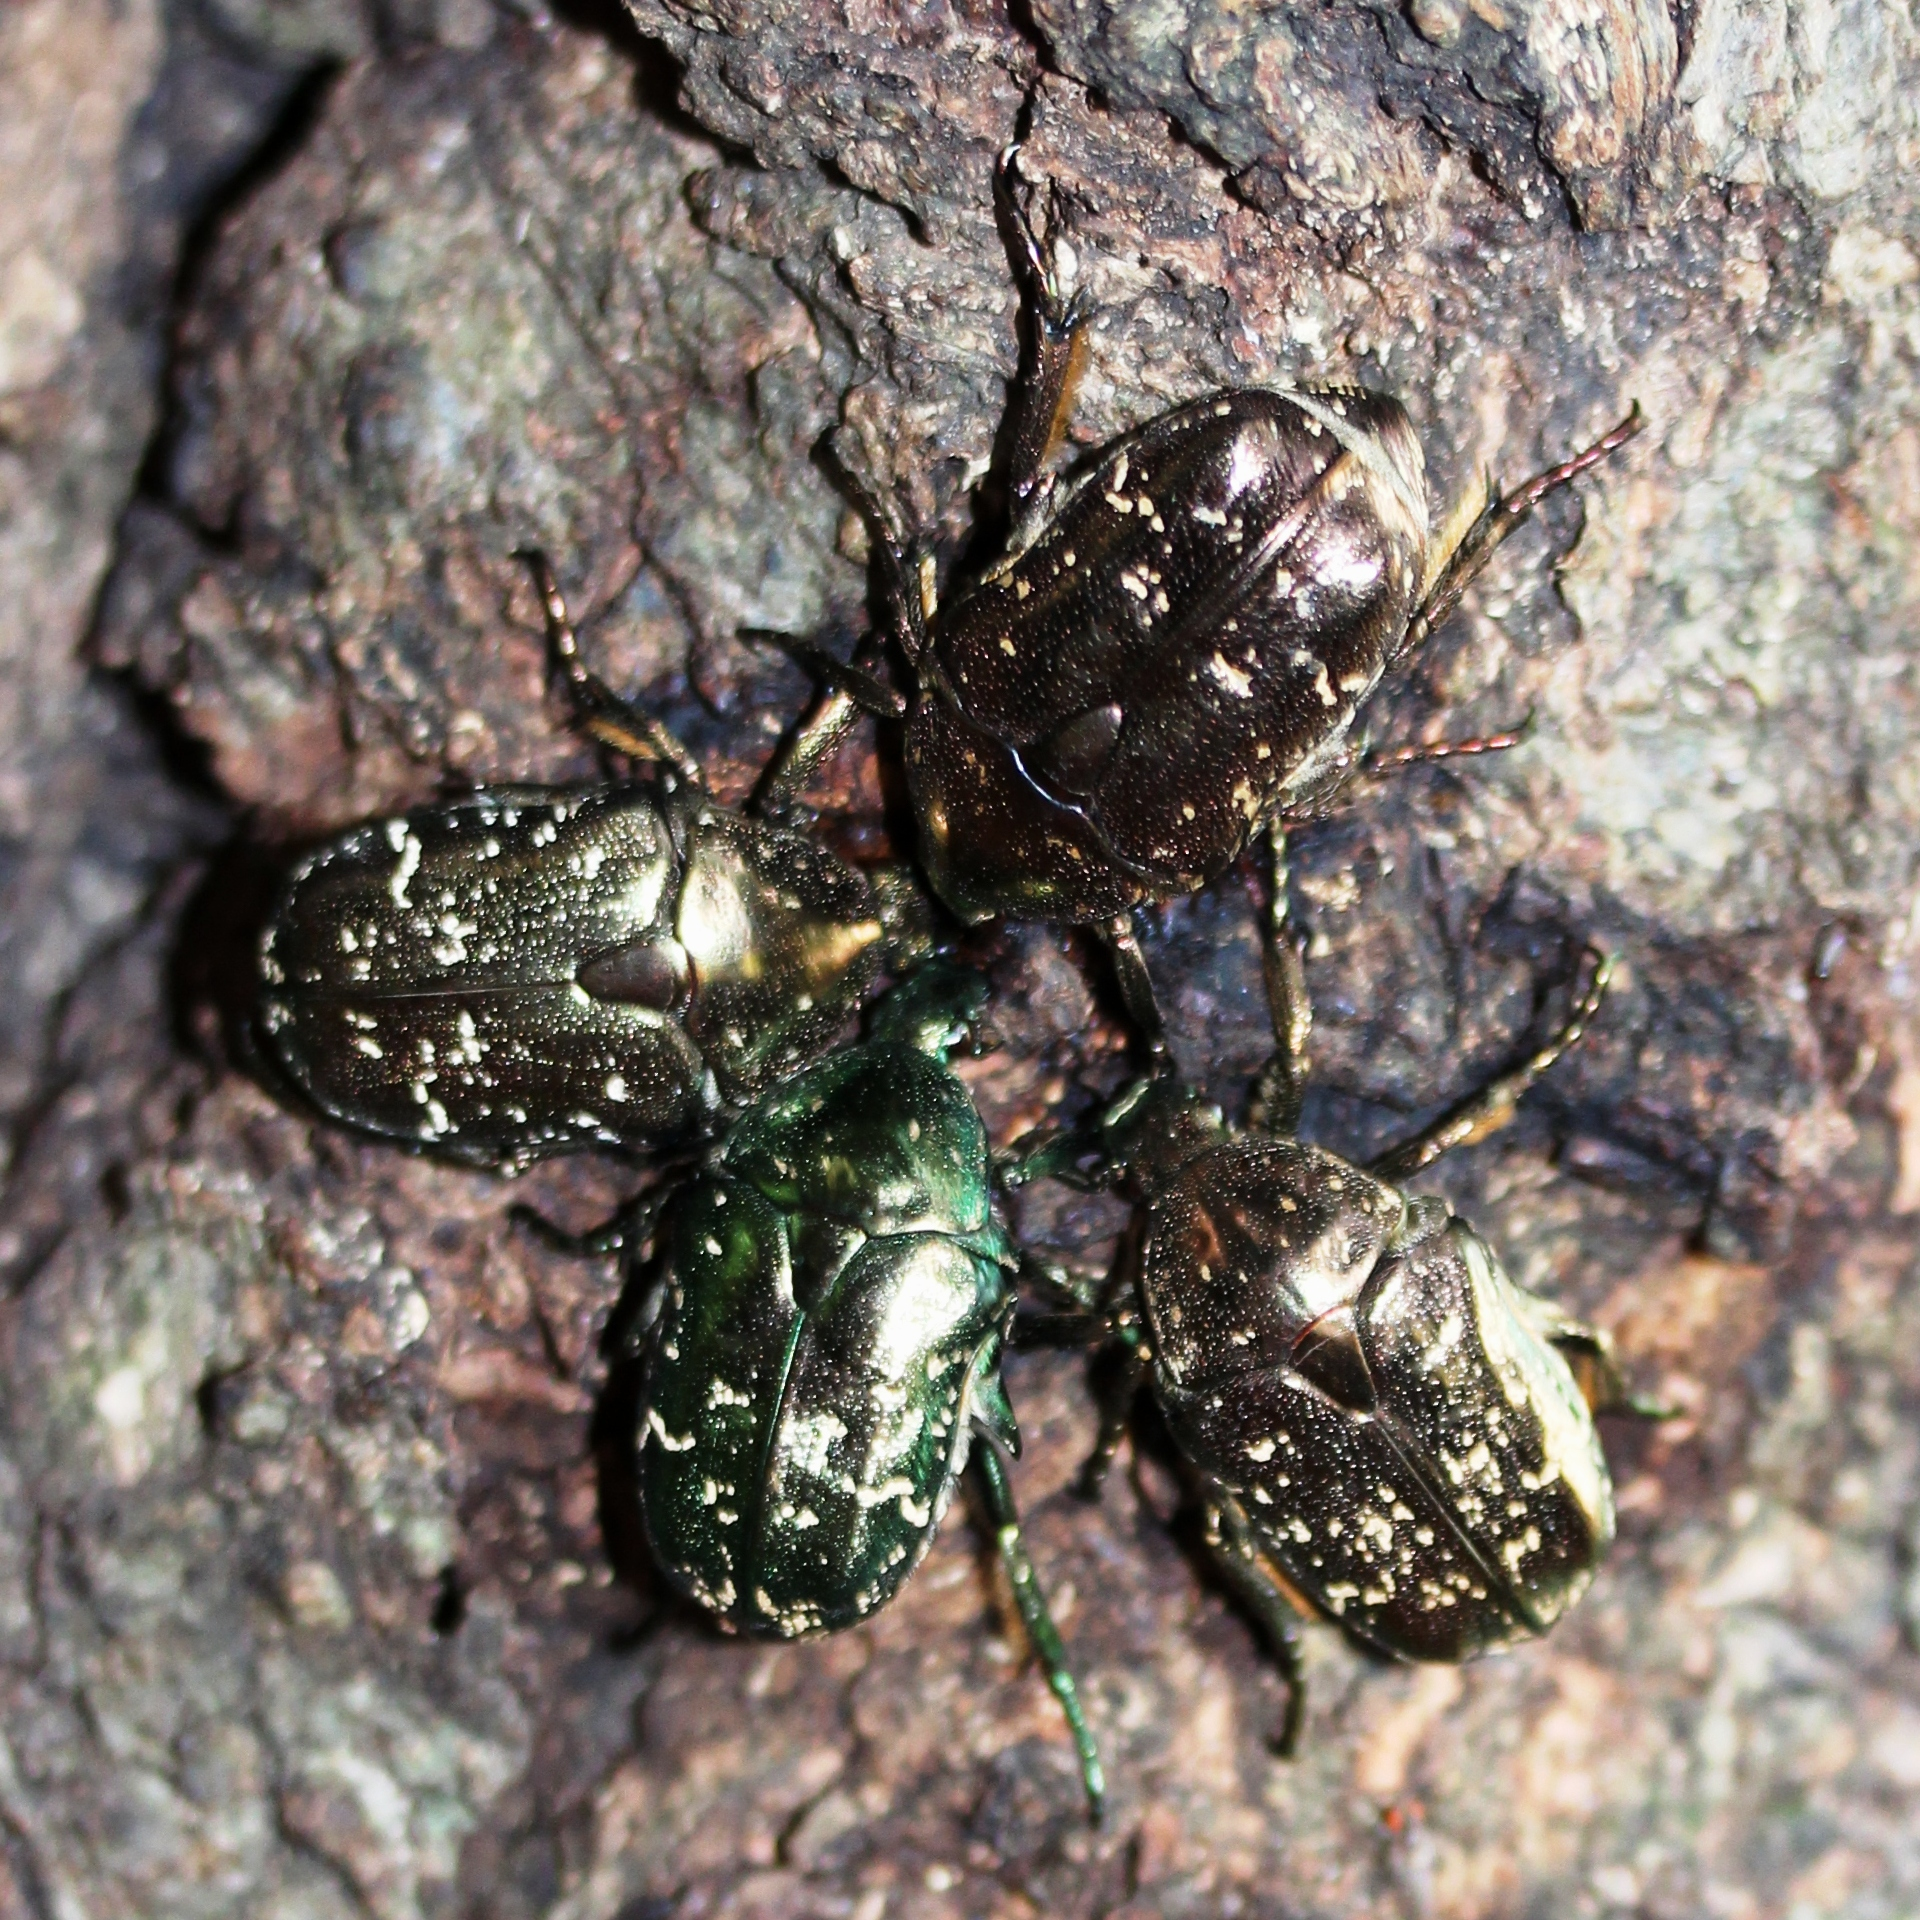Protaetia _orientalis: (876, 171, 1679, 1073), (1064, 1034, 1711, 1772), (243, 529, 900, 1164), (566, 1029, 1069, 1640)
